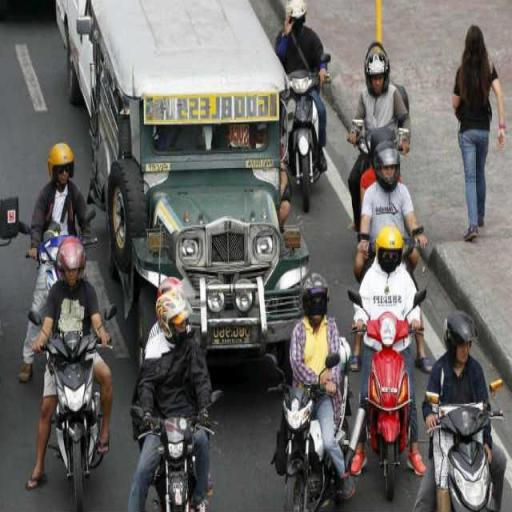Helmet: (149, 281, 204, 345), (441, 313, 482, 367), (363, 46, 405, 98), (51, 236, 91, 290), (375, 148, 408, 196), (300, 279, 334, 325), (376, 224, 408, 272), (49, 142, 81, 188), (281, 0, 309, 36)
Motor: (35, 319, 113, 502), (360, 300, 421, 491), (260, 359, 338, 508), (130, 402, 232, 512), (424, 396, 502, 512), (284, 66, 334, 194)
